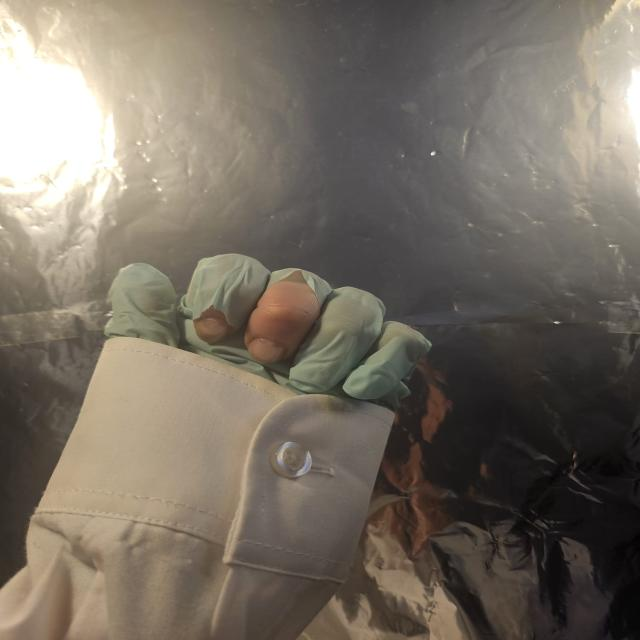gloves_damaged: (102, 253, 436, 413)
